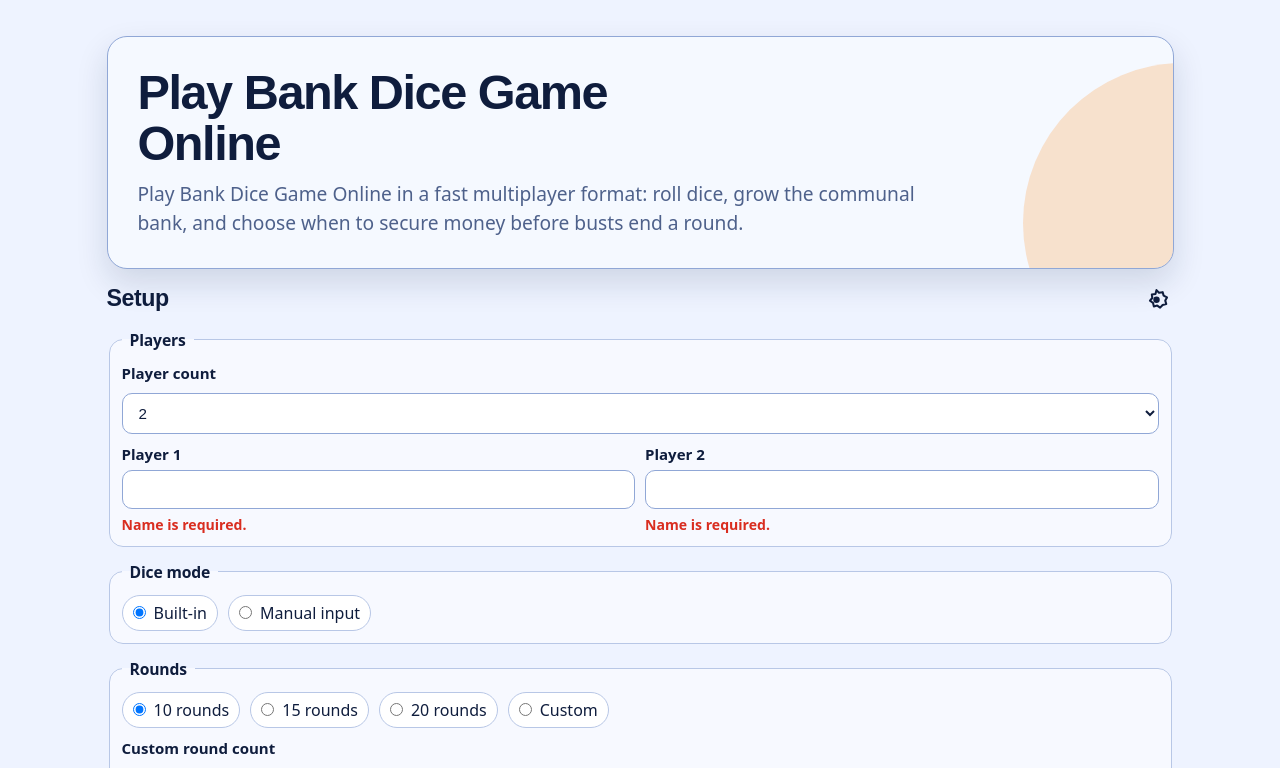
Scenario: AppShell › expands and collapses the rules section in settings
Step 1. Click the button named "Settings" → (1152, 307), box [1130,285,1174,329]
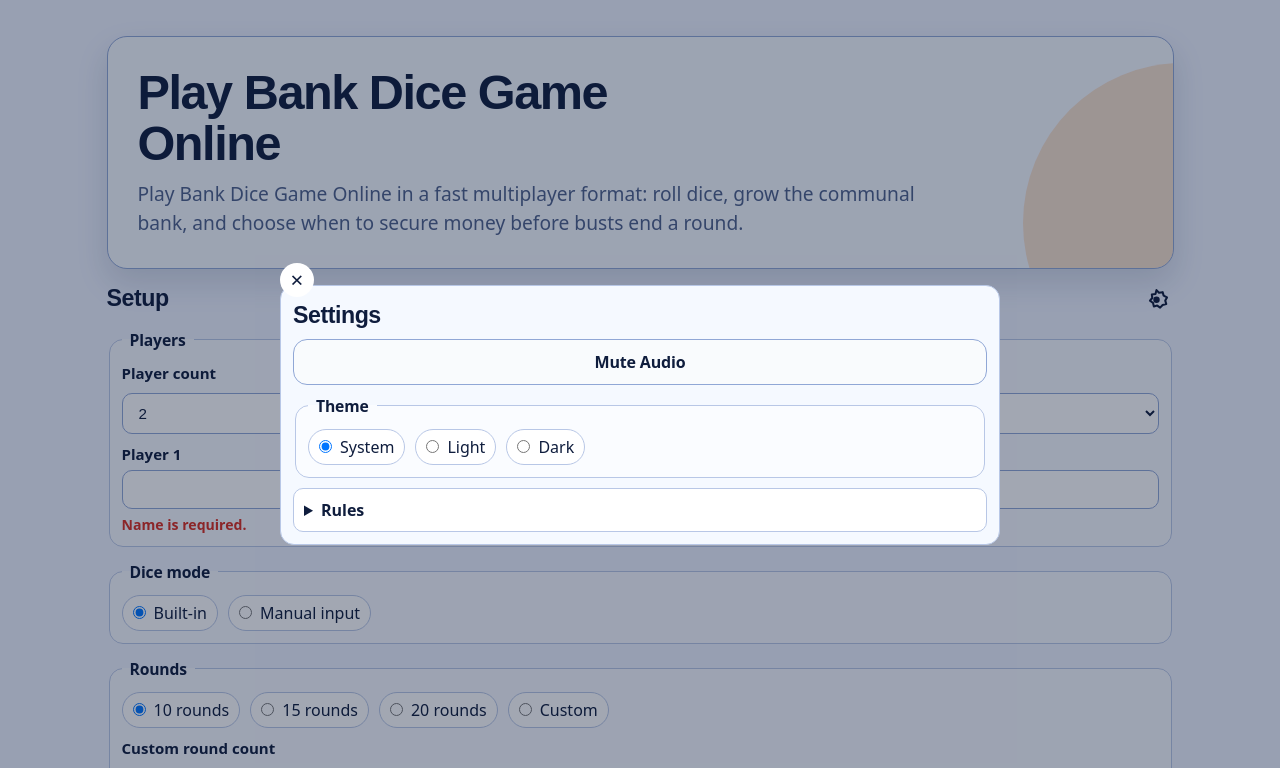
Step 2. Click the heading "Rules" → (343, 510), box [321,499,364,521]
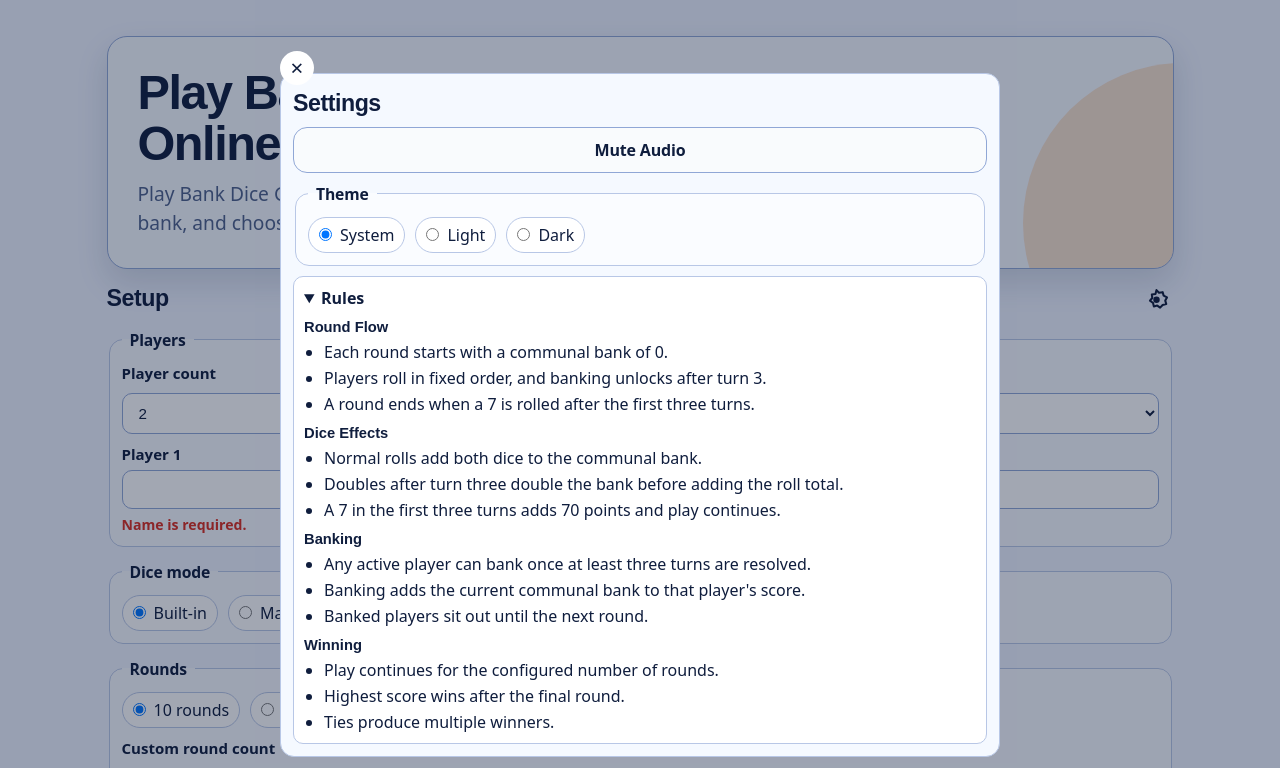
expect the heading "Round Flow" is shown: met, box [304,319,388,335]
